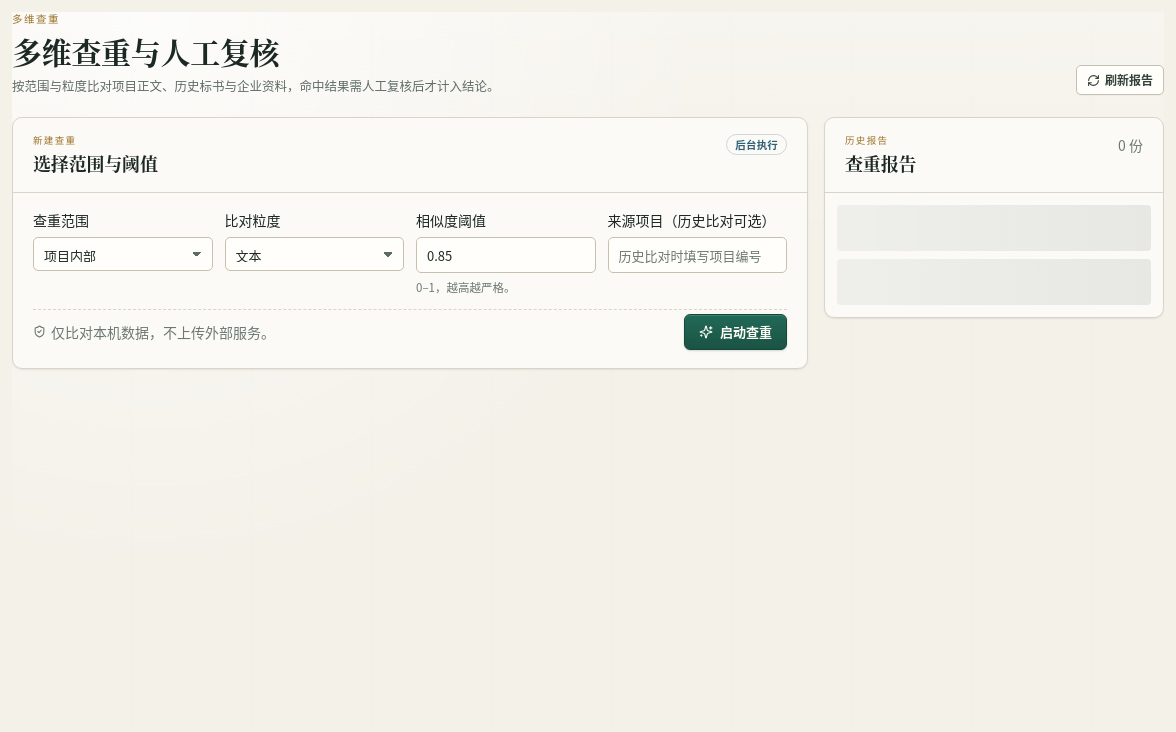
Test case: SimilarityTab › starts a check with backend scope/mode enums and routes source_project_id for history
Select "历史项目" in the dropdown labelled "查重范围": (123,254) [33,237,212,271]
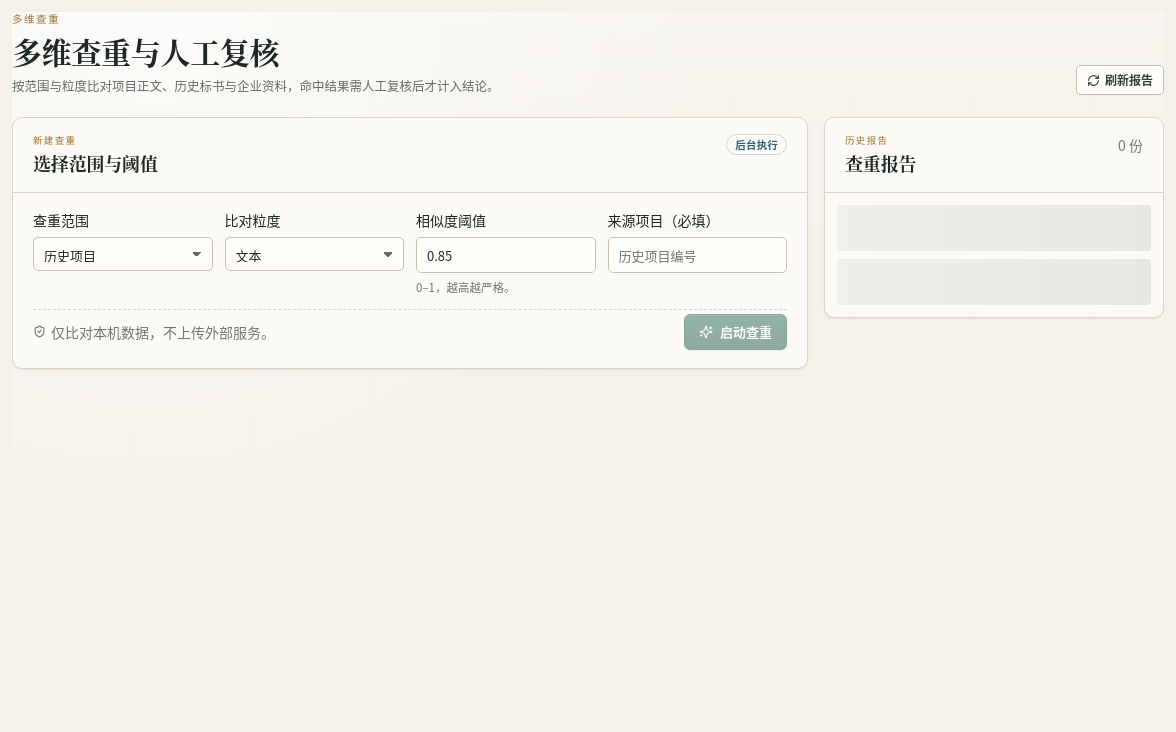
Select "语义" in the dropdown labelled "比对粒度": (314,254) [224,237,404,271]
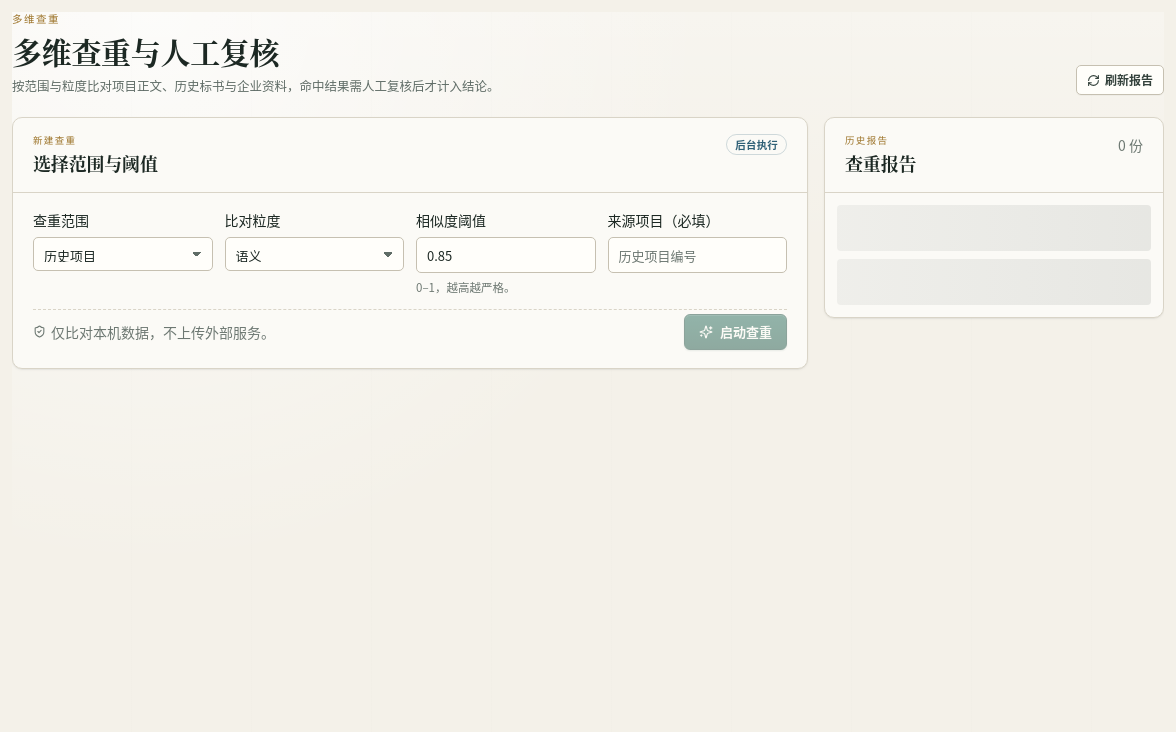
Replace the text in the number field labelled "相似度阈值 0–1，越高越严格。" with "0.7": (506,255) [416,237,596,273]
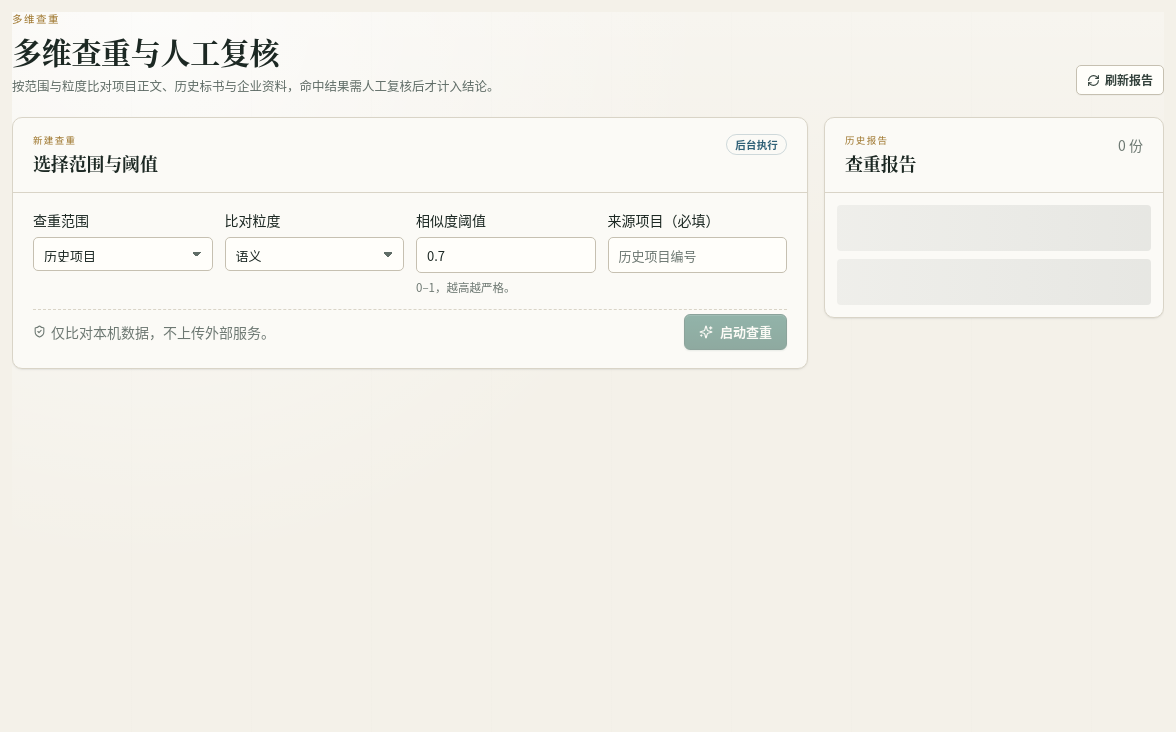
In the field labelled "来源项目（必填）": (697,255) [608,237,787,273], type "p0"
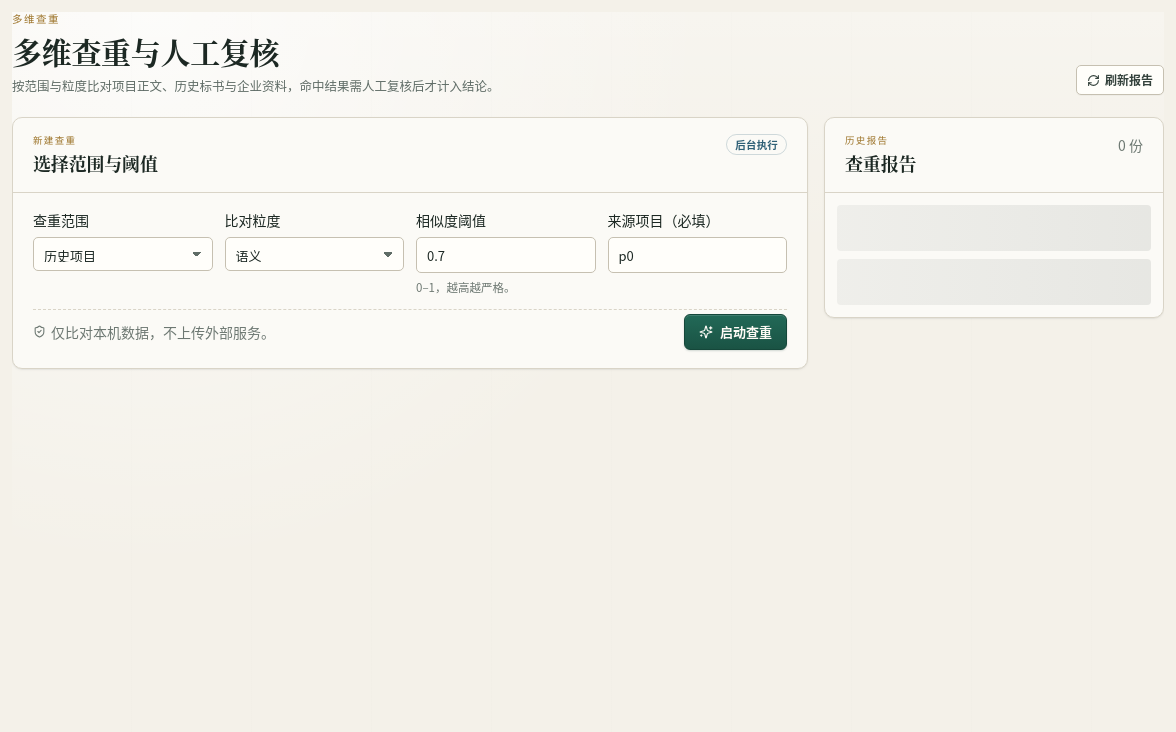
Click the button "启动查重": (736,332) [684,314,787,350]
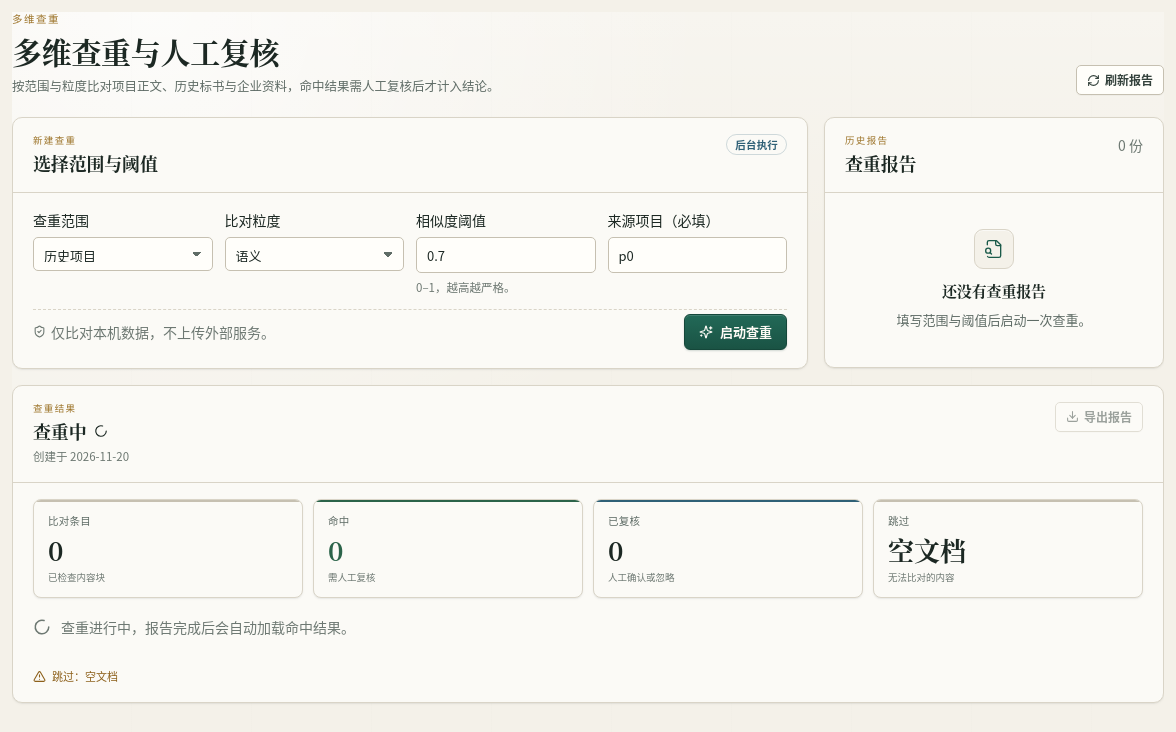
expect the text "查重进行中，报告完成后会自动加载命中结果。" is shown: met, box [61,616,355,638]
